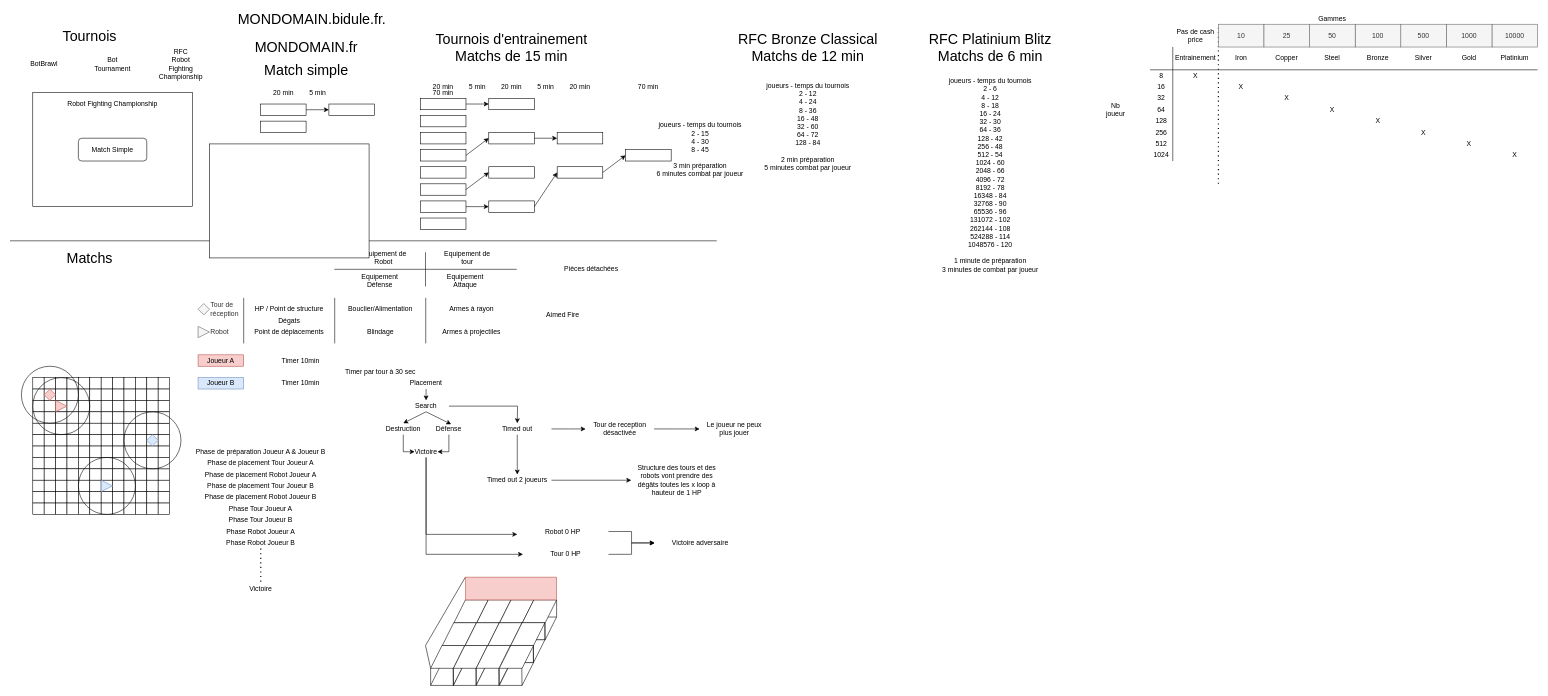
Some shapes in this 1548 by 696 pixel diagram are drawn without their labels. The shapes that lost their labels are listed below. From the top down, each one's centre as x and y in pixels, then its label:
At point 289,200: "ATTENTE AUTRE JOUEUR".
At point 511,588: "Billy Corp".
